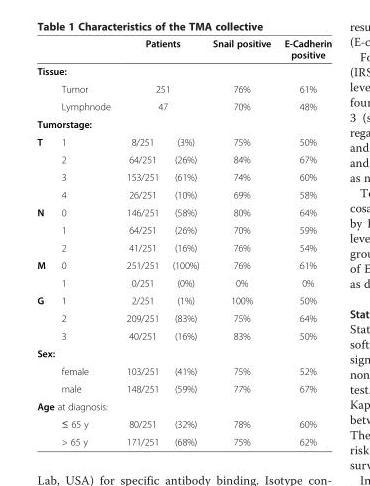table: (36, 37, 331, 447)
table column: (205, 37, 276, 447), (52, 37, 117, 447), (276, 37, 331, 447), (117, 37, 164, 447), (164, 37, 205, 447), (36, 37, 52, 447)
table column header: (36, 37, 331, 62)
table projected row header: (36, 114, 331, 132), (36, 344, 331, 362), (36, 62, 331, 79), (36, 397, 331, 414)
table row: (36, 37, 331, 62), (36, 79, 331, 97), (36, 114, 331, 132), (36, 132, 331, 150), (36, 167, 331, 185), (36, 185, 331, 203), (36, 220, 331, 238), (36, 238, 331, 256), (36, 273, 331, 291), (36, 291, 331, 309), (36, 326, 331, 344), (36, 344, 331, 362), (36, 379, 331, 397), (36, 414, 331, 432), (36, 62, 331, 79), (36, 97, 331, 114), (36, 150, 331, 167), (36, 203, 331, 220), (36, 256, 331, 273), (36, 309, 331, 326), (36, 362, 331, 379), (36, 397, 331, 414), (36, 432, 331, 447)
table spanning cell: (117, 37, 205, 62), (117, 79, 205, 97), (117, 97, 205, 114), (36, 132, 52, 203), (36, 203, 52, 256), (36, 291, 52, 344), (36, 256, 52, 291)
